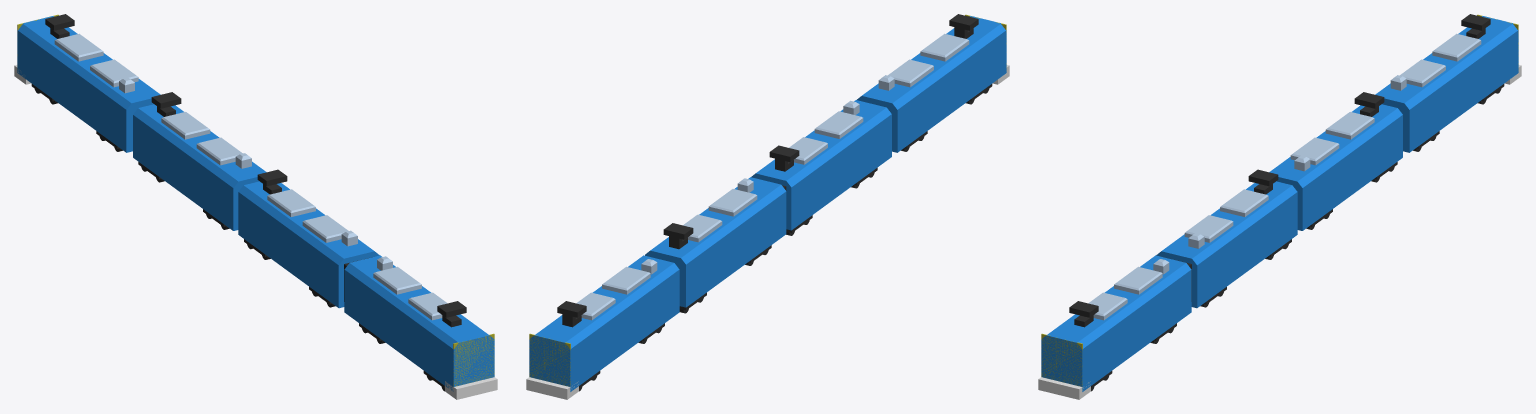
3 renders of one model, left to right at view 1: azimuth 30°, elevation 25°; view 2: azimuth 150°, elevation 25°; view 3: azimuth 330°, elevation 25°, orthographic.
Visible parts, largest first — view 1: train; view 2: train; view 3: train.
Part boxes in pixels (x1,y1,x2,y2): train: (14, 14, 497, 399); train: (526, 14, 1009, 399); train: (1038, 14, 1521, 399).
Bounding box in the file's own units: 5.36 × 9.37 × 100.
